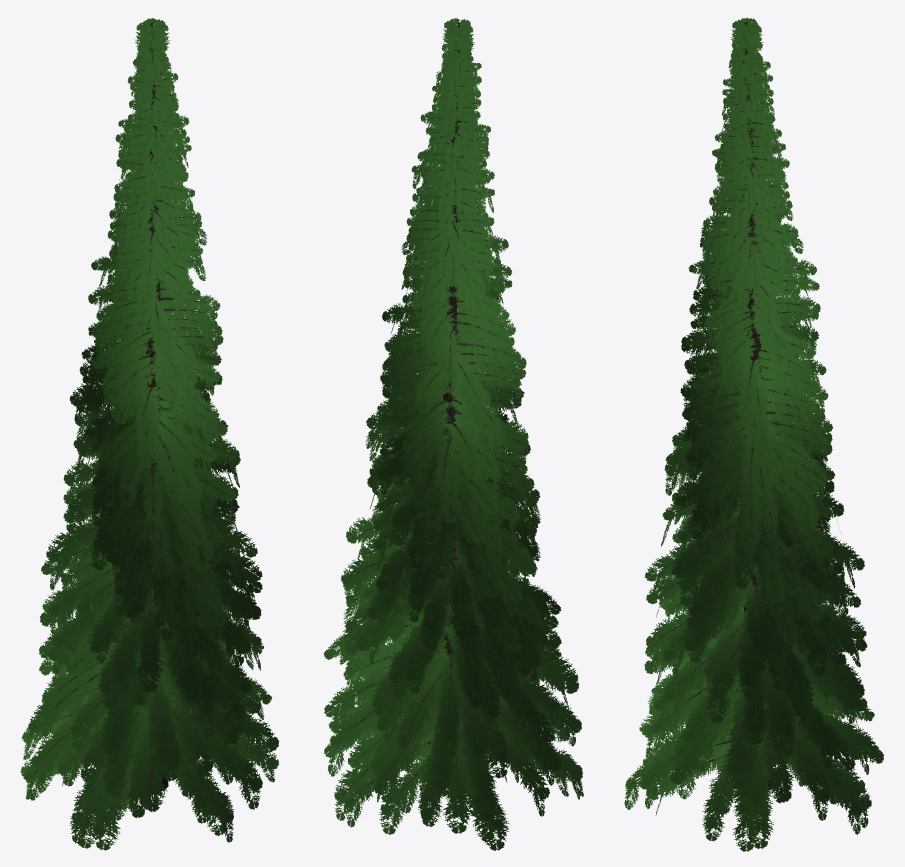
The model's file is spruce_conifer_v02.fbx.
3 renders of one model, left to right at view 1: azimuth 30°, elevation 25°; view 2: azimuth 150°, elevation 25°; view 3: azimuth 270°, elevation 25°, orthographic.
Parts seen in each view (by area): view 1: spruce_conifer_v02; view 2: spruce_conifer_v02; view 3: spruce_conifer_v02.
Boxes of the visible parts, box(x1,y1,x2,y2) form: spruce_conifer_v02: box(20, 18, 279, 850); spruce_conifer_v02: box(323, 18, 583, 850); spruce_conifer_v02: box(624, 17, 883, 851).
Size of the model in its own units: 915 by 906 by 2915.
2 materials, 2 textured.
